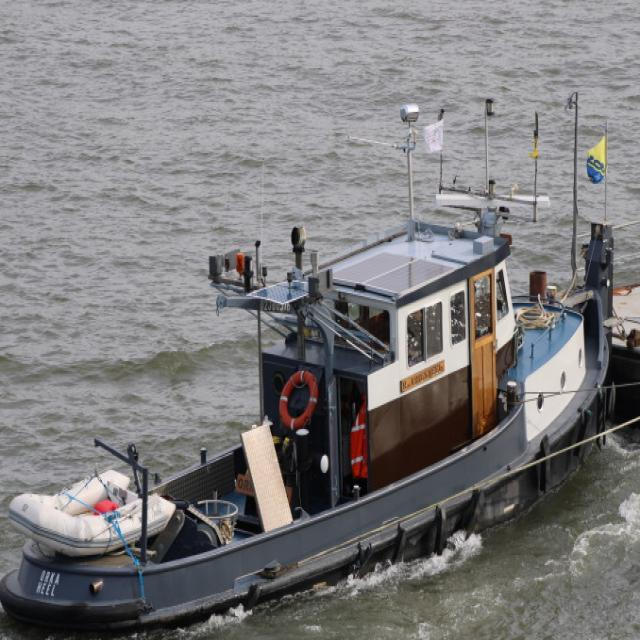tugboat: (1, 182, 615, 640)
